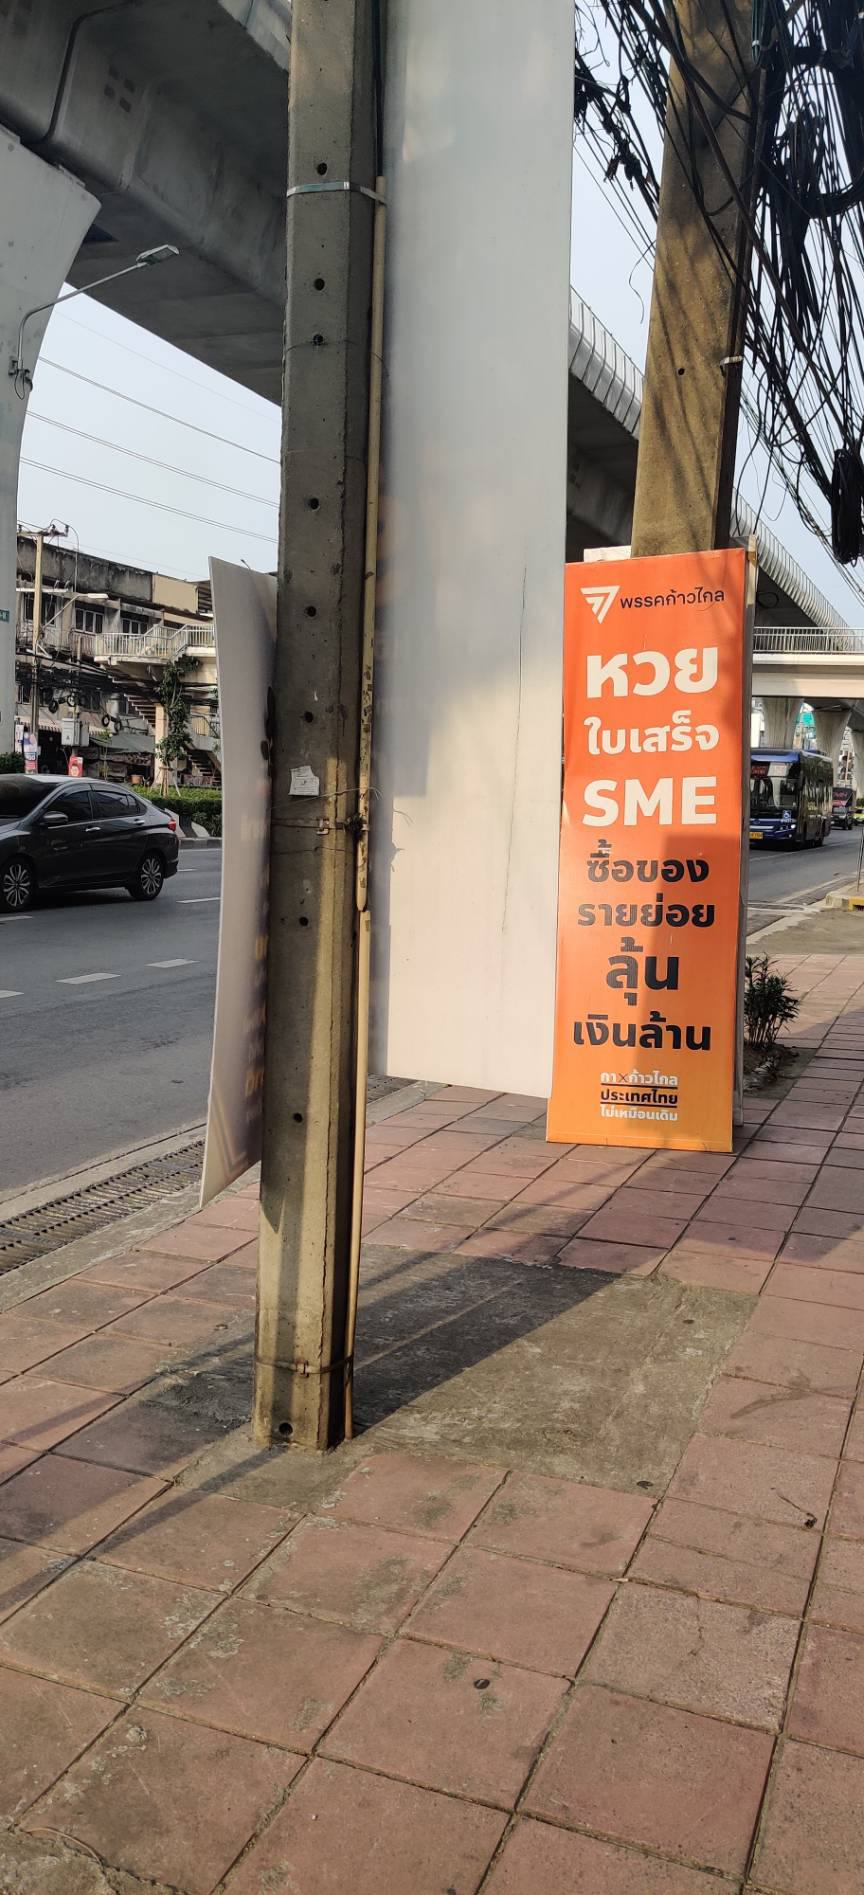Banner: (545, 541, 755, 1158)
